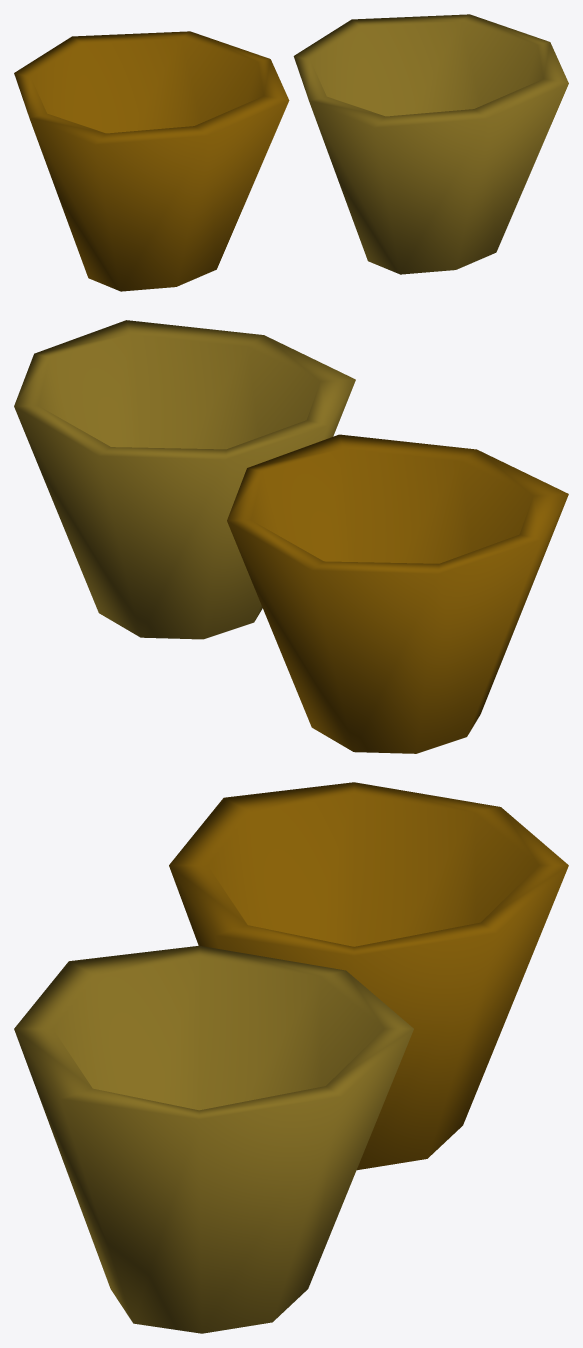
The model's file is PANEIROS.dae.
The picture shows the model from 3 angles, top to bottom: view 1: azimuth 30°, elevation 25°; view 2: azimuth 150°, elevation 25°; view 3: azimuth 270°, elevation 25°; orthographic projection. The views are drawn at different scales.
Parts seen in each view (by area): view 1: Cube.014, Cube.015; view 2: Cube.015, Cube.014; view 3: Cube.014, Cube.015.
Boxes of the visible parts, x1,y1,x2,y2 form: Cube.014: (293,14,568,274); Cube.015: (14,31,289,291); Cube.015: (227,434,568,753); Cube.014: (14,320,355,639); Cube.014: (14,945,413,1333); Cube.015: (169,782,568,1170).
Bounding box in the file's own units: 4.18 × 2.91 × 1.5.
